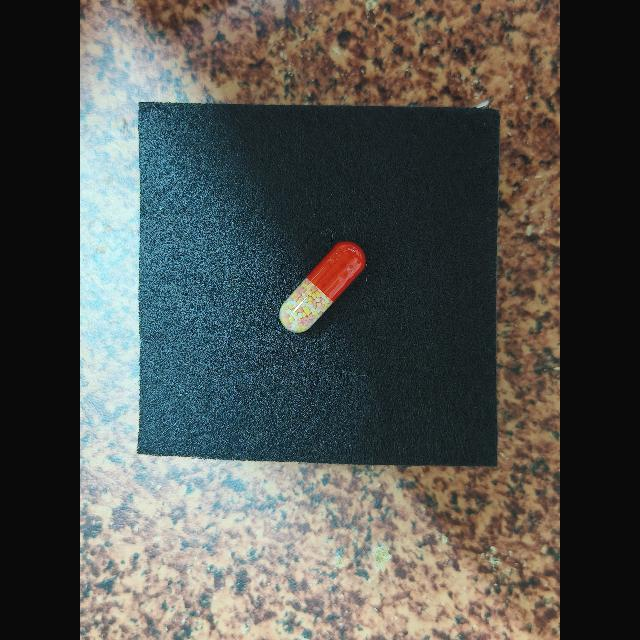Intact Capsule: (279, 242, 366, 333)
